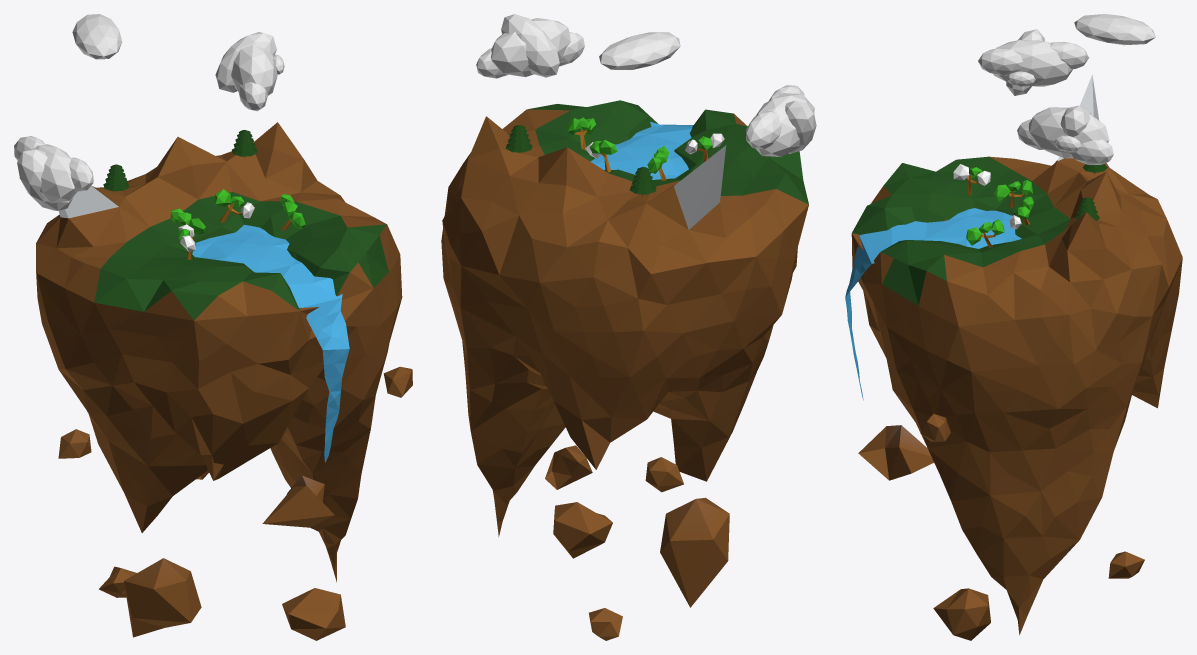
The model's file is chomei(7).glb.
3 views of the same model, side by side, from view 1: azimuth 30°, elevation 25°; view 2: azimuth 150°, elevation 25°; view 3: azimuth 270°, elevation 25° (orthographic). The views are drawn at different scales.
Visible parts, largest first — view 1: Icosphere_2, Plane_3, Icosphere.030_43, Icosphere.001_33, Icosphere.006_38, Icosphere.029_42, Icosphere.005_37, Icosphere.002_34, Icosphere.027_40; view 2: Icosphere_2, Plane_3, Icosphere.030_43, Icosphere.001_33, Icosphere.005_37, Icosphere.006_38, Icosphere.007_39, Icosphere.029_42, Cone.002_31, Cone_29; view 3: Icosphere_2, Plane_3, Icosphere.006_38, Icosphere.001_33, Icosphere.030_43, Icosphere.027_40, Icosphere.003_35, Icosphere.005_37, Icosphere.007_39.
Part boxes in pixels (<box>): Icosphere_2: <box>36,122,412,640</box>; Plane_3: <box>192,225,349,462</box>; Icosphere.030_43: <box>72,14,122,59</box>; Icosphere.001_33: <box>231,45,277,95</box>; Icosphere.006_38: <box>19,144,76,203</box>; Icosphere.029_42: <box>17,149,73,210</box>; Icosphere.005_37: <box>215,32,276,92</box>; Icosphere.002_34: <box>238,82,267,111</box>; Icosphere.027_40: <box>69,157,93,191</box>; Icosphere_2: <box>441,100,808,640</box>; Plane_3: <box>590,121,693,179</box>; Icosphere.030_43: <box>599,32,680,69</box>; Icosphere.001_33: <box>491,18,570,76</box>; Icosphere.005_37: <box>501,14,559,77</box>; Icosphere.006_38: <box>755,93,814,157</box>; Icosphere.007_39: <box>746,110,781,148</box>; Icosphere.029_42: <box>785,100,816,153</box>; Cone.002_31: <box>505,125,532,152</box>; Cone_29: <box>629,167,656,194</box>; Icosphere_2: <box>851,75,1182,640</box>; Plane_3: <box>845,208,1021,400</box>; Icosphere.006_38: <box>993,40,1072,86</box>; Icosphere.001_33: <box>1028,107,1109,158</box>; Icosphere.030_43: <box>1074,14,1155,45</box>; Icosphere.027_40: <box>978,48,1022,75</box>; Icosphere.003_35: <box>1070,139,1113,164</box>; Icosphere.005_37: <box>1060,105,1091,136</box>; Icosphere.007_39: <box>1050,42,1088,69</box>.
Size of the model in its own units: 56.11 by 92.93 by 50.99.
